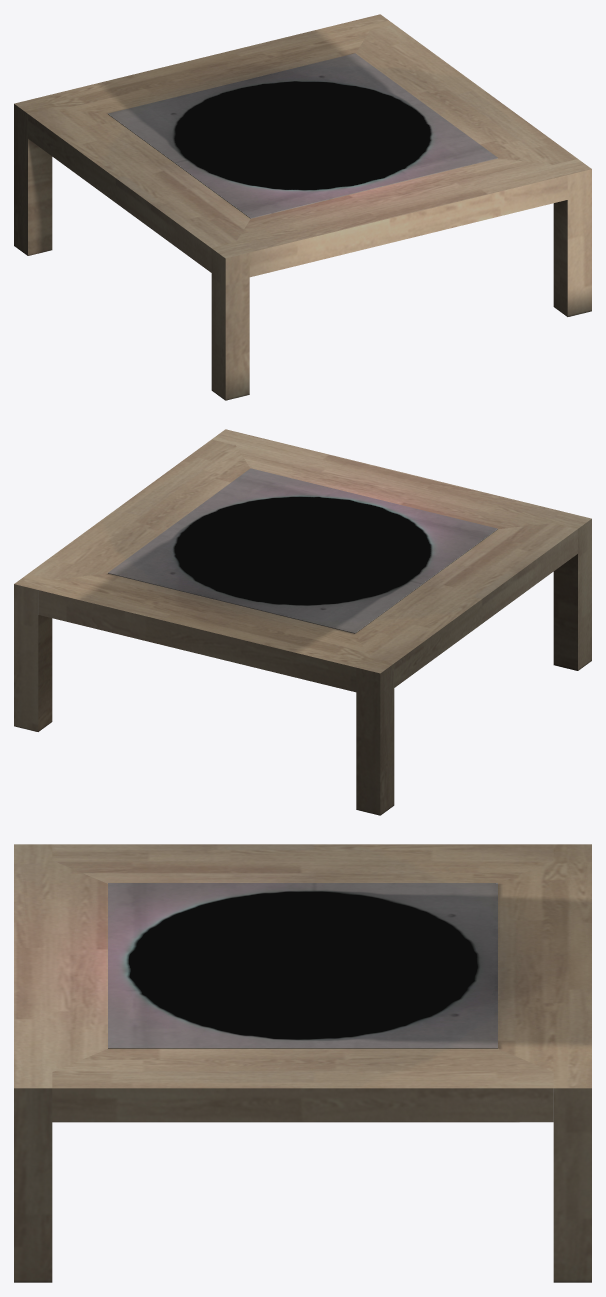
File: table2.obj
The picture shows the model from 3 angles, top to bottom: view 1: azimuth 30°, elevation 25°; view 2: azimuth 150°, elevation 25°; view 3: azimuth 270°, elevation 25°; orthographic projection. The views are drawn at different scales.
Parts seen in each view (by area): view 1: TABLE1; view 2: TABLE1; view 3: TABLE1.
Part boxes in pixels (x1,y1,x2,y2): TABLE1: (14, 14, 591, 400); TABLE1: (14, 429, 591, 815); TABLE1: (14, 844, 591, 1282).
Bounding box in the file's own units: 1.67 × 0.6208 × 1.67.
Materials: 1 (1 with a texture image).
